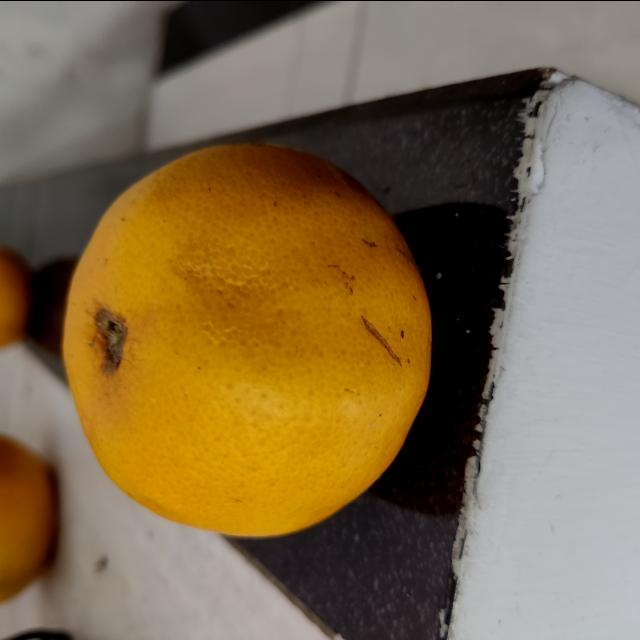agrume: (59, 141, 432, 539)
